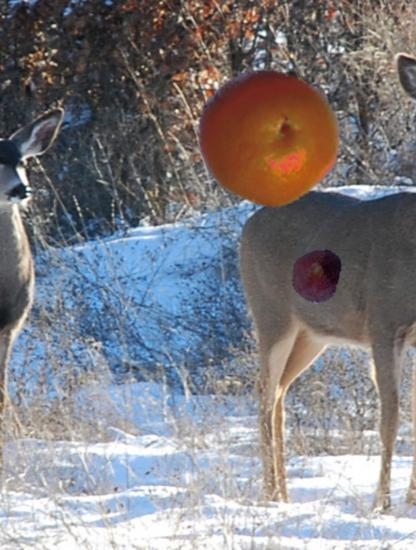Orange: (253, 75, 321, 143)
Salak: (288, 248, 343, 303)
Tangelo: (198, 64, 341, 207)
